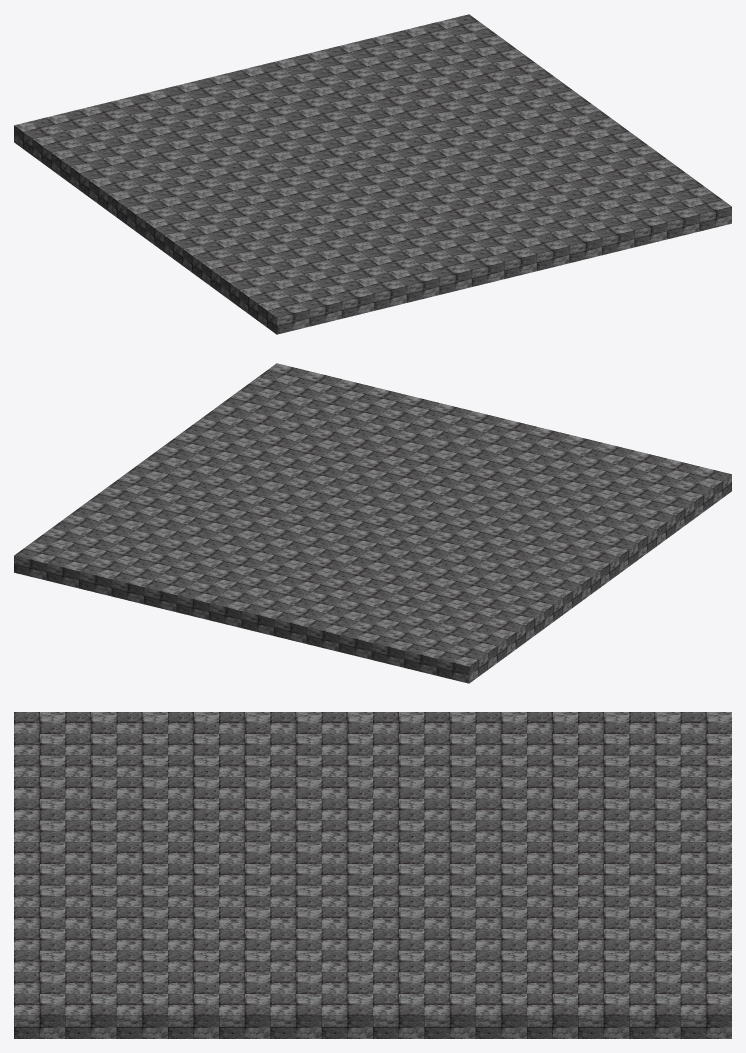
The model's file is MAP430.obj.
3 renders of one model, top to bottom at view 1: azimuth 30°, elevation 25°; view 2: azimuth 150°, elevation 25°; view 3: azimuth 270°, elevation 25°, orthographic. The views are drawn at different scales.
Parts seen in each view (by area): view 1: mesh_0; view 2: mesh_0; view 3: mesh_0.
Part boxes in pixels (x1,y1,x2,y2): mesh_0: (14,14,731,334); mesh_0: (14,363,731,683); mesh_0: (14,712,731,1038).
Bounding box in the file's own units: 179 × 6.4 × 179.
1 material, 1 textured.
